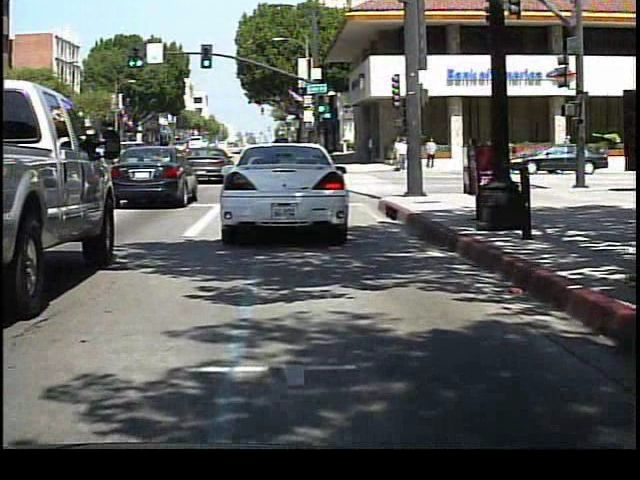person: (487, 135, 508, 173), (424, 135, 440, 170), (394, 137, 408, 176)
